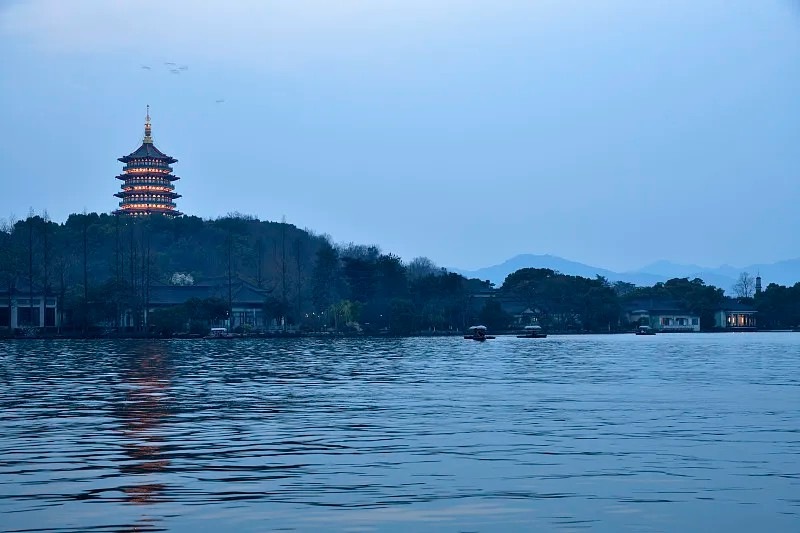Leifeng: (112, 101, 184, 219)
